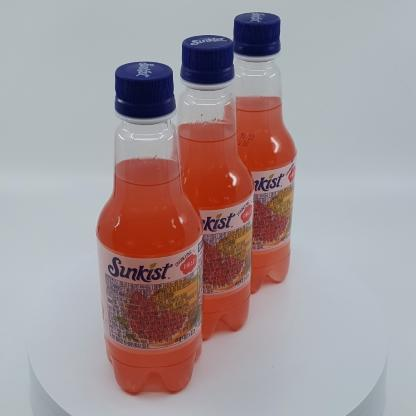----------350ML-PET-: (95, 61, 204, 394), (159, 35, 255, 340), (209, 13, 297, 292)
